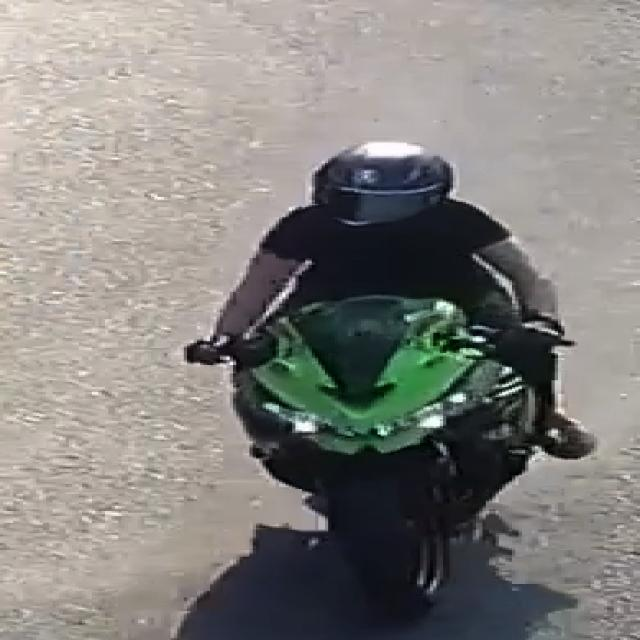helm: (291, 135, 485, 234)
motor: (175, 130, 596, 626)
